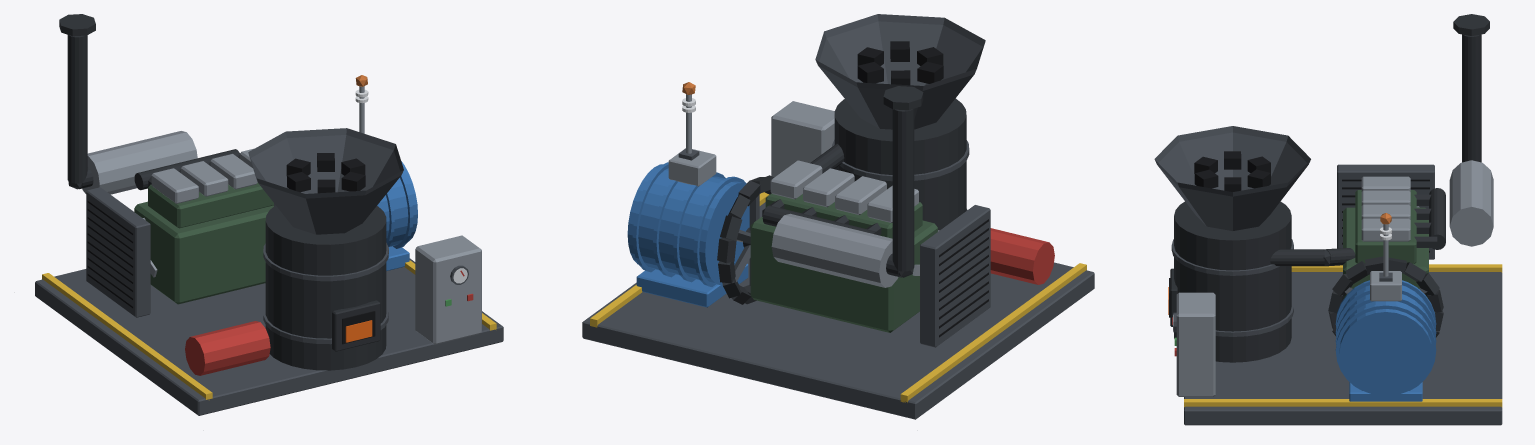
File: generateur_combustible.glb
The picture shows the model from 3 angles, left to right: view 1: azimuth 30°, elevation 25°; view 2: azimuth 150°, elevation 25°; view 3: azimuth 270°, elevation 25°; orthographic projection. The views are drawn at different scales.
Parts seen in each view (by area): view 1: pieces_acier_sombre.016, gazogene.002, pieces_vert_fonce.006, tremie.002, pieces_acier.018, pieces_fonte.012, pieces_noir.014, silencieux.002, reservoir.002, pieces_jaune.012, alternateur.004, pieces_bleu.006 (+1 smaller); view 2: pieces_acier_sombre.016, tremie.002, pieces_vert_fonce.006, pieces_acier.018, gazogene.002, alternateur.004, silencieux.002, pieces_fonte.012, pieces_bleu.006, pieces_noir.014, pieces_jaune.012, reservoir.002 (+3 smaller); view 3: pieces_acier_sombre.016, gazogene.002, tremie.002, pieces_acier.018, alternateur.004, pieces_fonte.012, silencieux.002, pieces_jaune.012, pieces_bleu.006, pieces_vert_fonce.006, pieces_noir.014, volant_fonte.002 (+1 smaller).
Boxes of the visible parts, box(x1,y1,x2,y2) form: pieces_acier_sombre.016: box(35, 187, 503, 415); gazogene.002: box(265, 205, 386, 370); pieces_vert_fonce.006: box(134, 182, 273, 304); tremie.002: box(248, 128, 403, 234); pieces_acier.018: box(151, 86, 481, 344); pieces_fonte.012: box(67, 35, 380, 351); pieces_noir.014: box(87, 153, 375, 344); silencieux.002: box(82, 131, 197, 194); reservoir.002: box(185, 321, 270, 375); pieces_jaune.012: box(42, 260, 496, 400); alternateur.004: box(377, 161, 417, 246); pieces_bleu.006: box(386, 172, 413, 270); pieces_acier_sombre.016: box(582, 139, 1094, 419); tremie.002: box(815, 14, 985, 129); pieces_vert_fonce.006: box(750, 193, 937, 332); pieces_acier.018: box(668, 94, 918, 222); gazogene.002: box(834, 98, 966, 230); alternateur.004: box(627, 164, 749, 284); silencieux.002: box(771, 213, 898, 287); pieces_fonte.012: box(762, 109, 914, 277); pieces_bleu.006: box(632, 162, 748, 307); pieces_noir.014: box(857, 41, 988, 337); pieces_jaune.012: box(590, 192, 1086, 402); reservoir.002: box(990, 228, 1054, 284); pieces_acier_sombre.016: box(1171, 164, 1502, 425); gazogene.002: box(1174, 201, 1291, 362); tremie.002: box(1154, 126, 1310, 230); pieces_acier.018: box(1176, 176, 1410, 396); alternateur.004: box(1339, 285, 1432, 396); pieces_fonte.012: box(1170, 34, 1481, 326); silencieux.002: box(1449, 160, 1493, 246); pieces_jaune.012: box(1184, 264, 1502, 407); pieces_bleu.006: box(1335, 280, 1436, 401); pieces_vert_fonce.006: box(1343, 190, 1428, 299); pieces_noir.014: box(1169, 151, 1429, 317); volant_fonte.002: box(1328, 256, 1443, 337).
Size of the model in its own units: 1.5 by 1.23 by 1.5.
